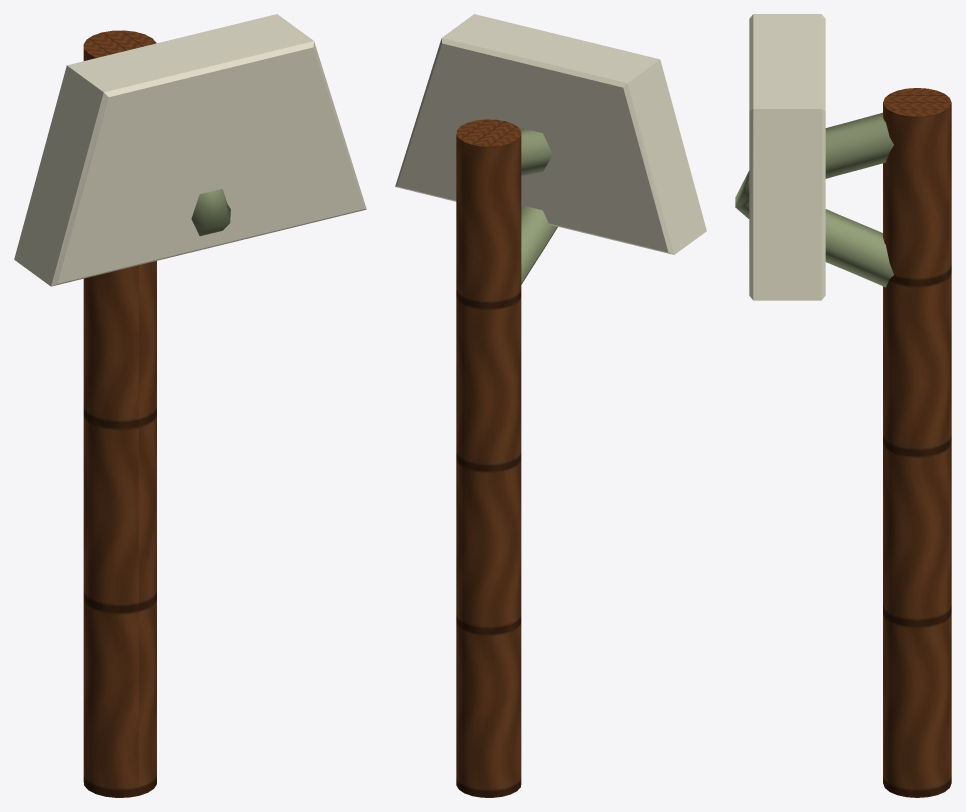
Rendered from primitive-crafting-workshop-stone-adze-f83eb715__21535.glb.
The picture shows the model from 3 angles, left to right: view 1: azimuth 30°, elevation 25°; view 2: azimuth 150°, elevation 25°; view 3: azimuth 270°, elevation 25°; orthographic projection. The views are drawn at different scales.
Parts seen in each view (by area): view 1: stone-adze; view 2: stone-adze; view 3: stone-adze.
Part boxes in pixels (x1,y1,x2,y2): stone-adze: (14,14,366,797); stone-adze: (395,14,706,797); stone-adze: (735,14,951,797).
Bounding box in the file's own units: 0.2468 × 0.583 × 0.1581.
3 materials, 1 textured.
